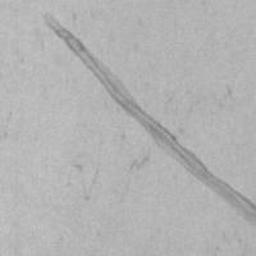Water spot: (45, 12, 256, 220)
